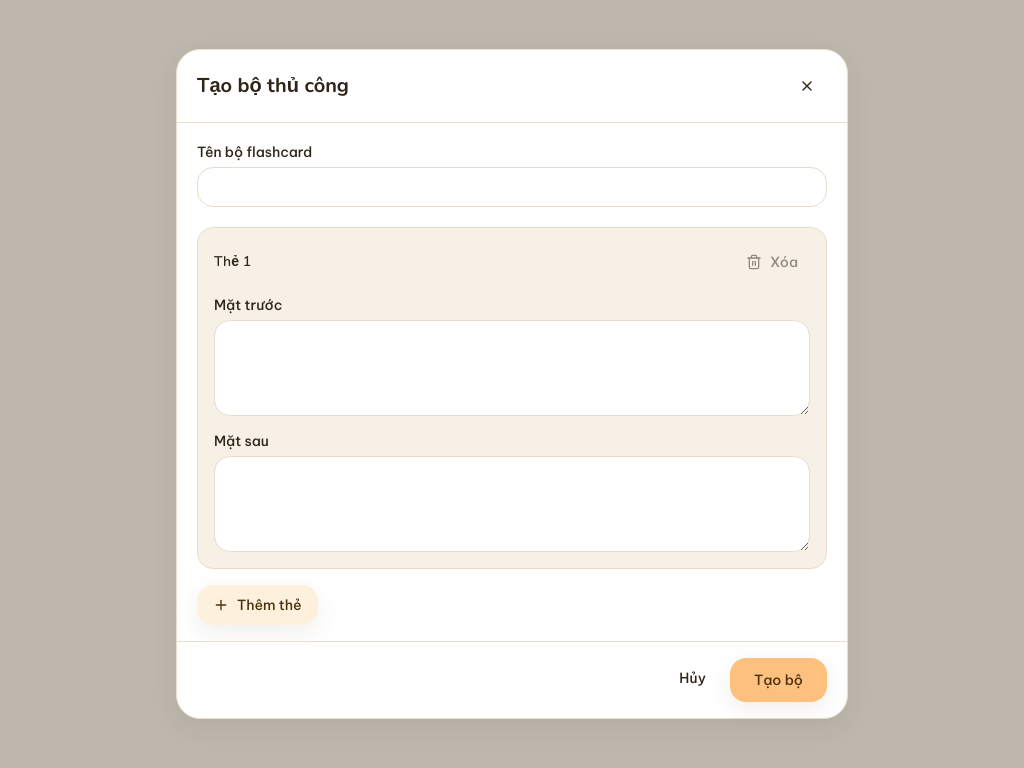
Test: ManualSetForm › clears a field error once the field is edited
Step 1. Click the button "Tạo bộ" → (778, 680), box 730,658 -> 827,702
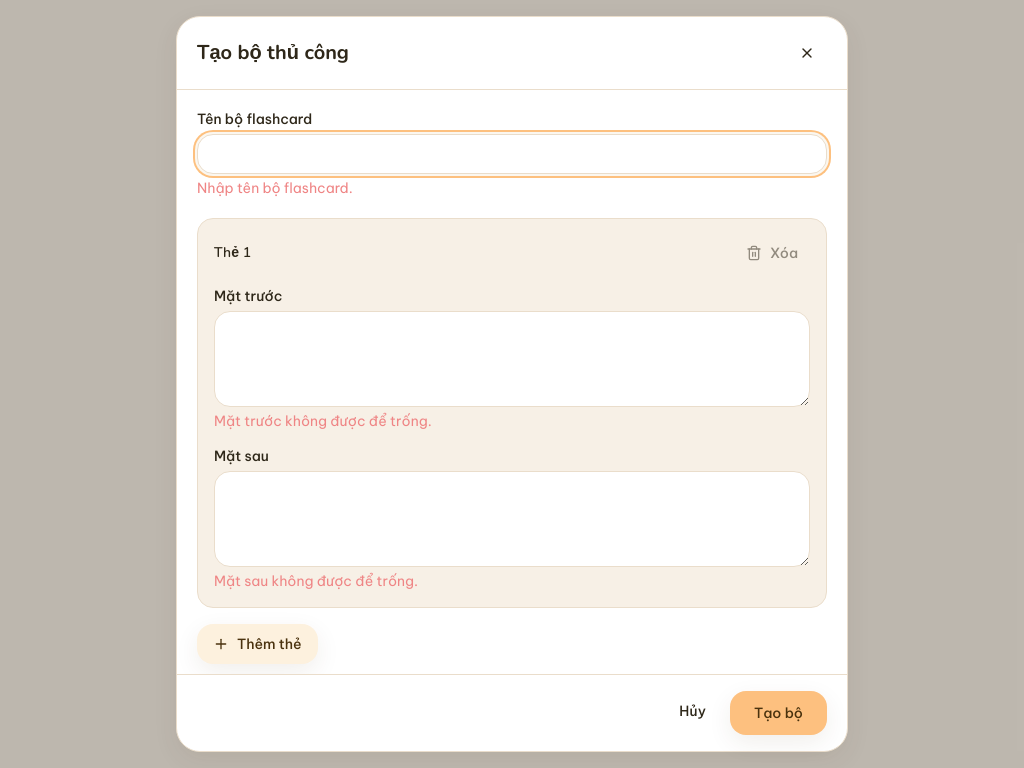
Now the text "Nhập tên bộ flashcard." is shown, box 197,179 -> 353,197
Step 2. Type "A" into the field labelled "Tên bộ flashcard" → (512, 154), box 197,134 -> 827,174
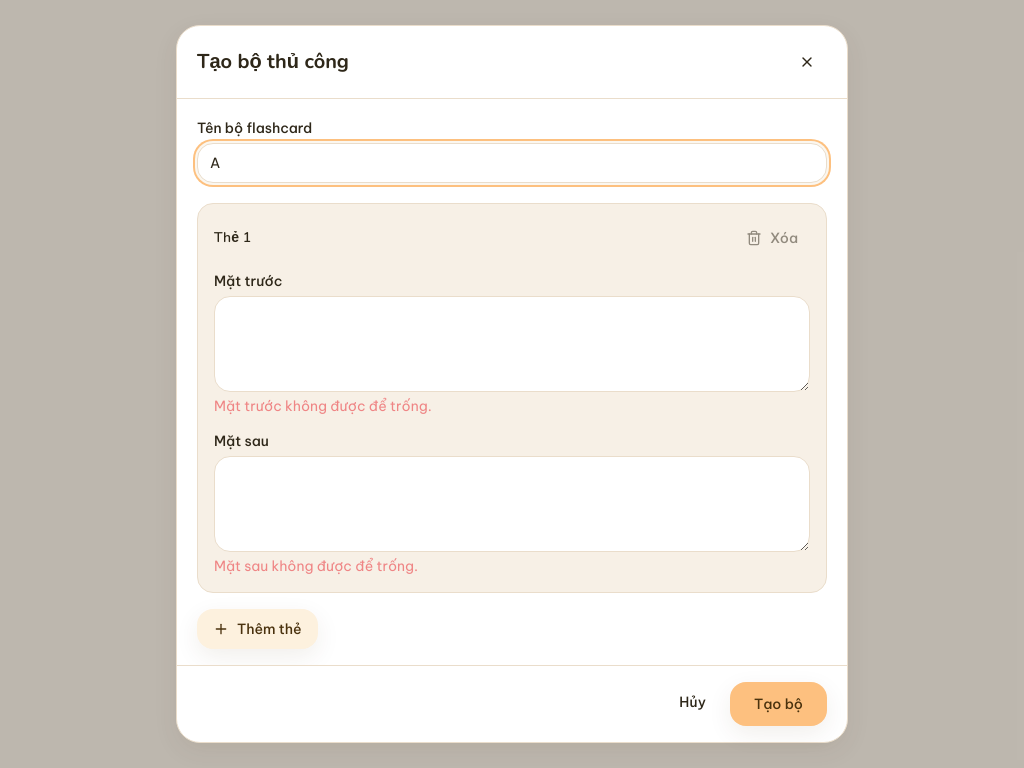
Now the text "Nhập tên bộ flashcard." is gone
